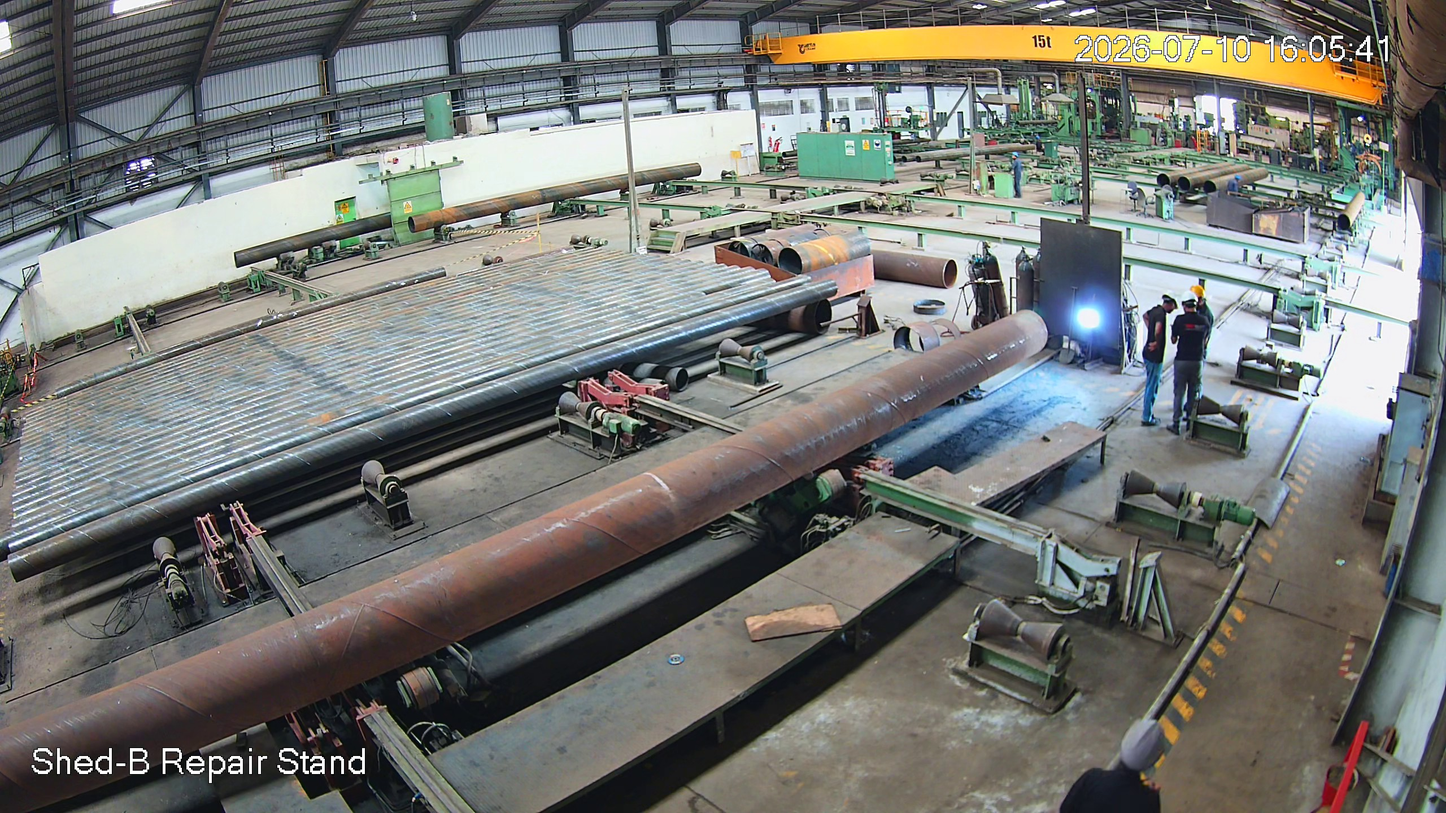Helmet: (1159, 288, 1180, 316), (1180, 288, 1195, 315)
Person: (1136, 293, 1178, 435), (1171, 292, 1204, 429)
